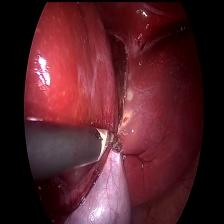Hook: (90, 113, 124, 158)
